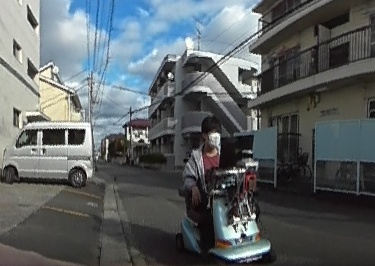person: (181, 117, 225, 253)
